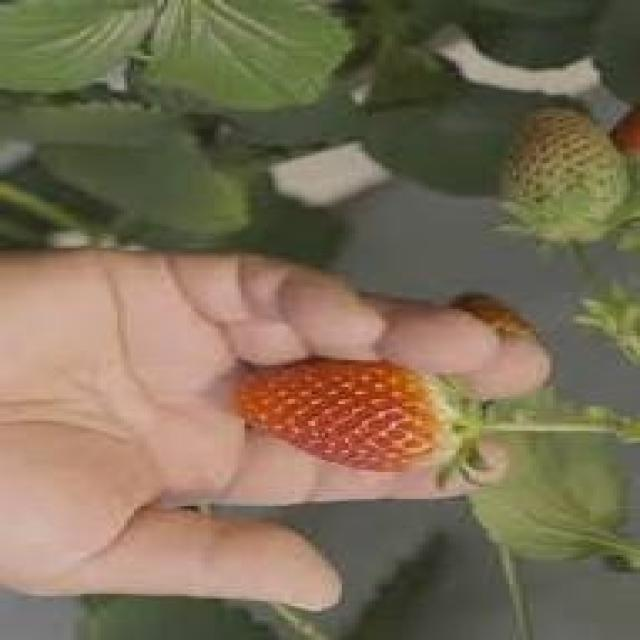immature: (500, 108, 631, 244)
mature: (234, 357, 463, 474)
